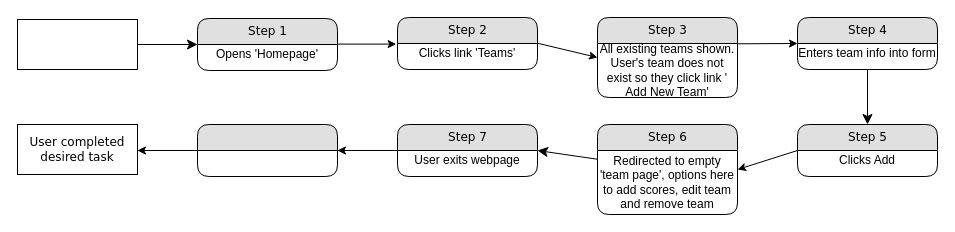
Some shapes in this 955 by 232 pixel diagram are drawn without their labels. The centre of each missing label's shape, as x and y in pixels:
"Step 8" goes at [267,150].
"User wants to make a team" goes at [77,44].
